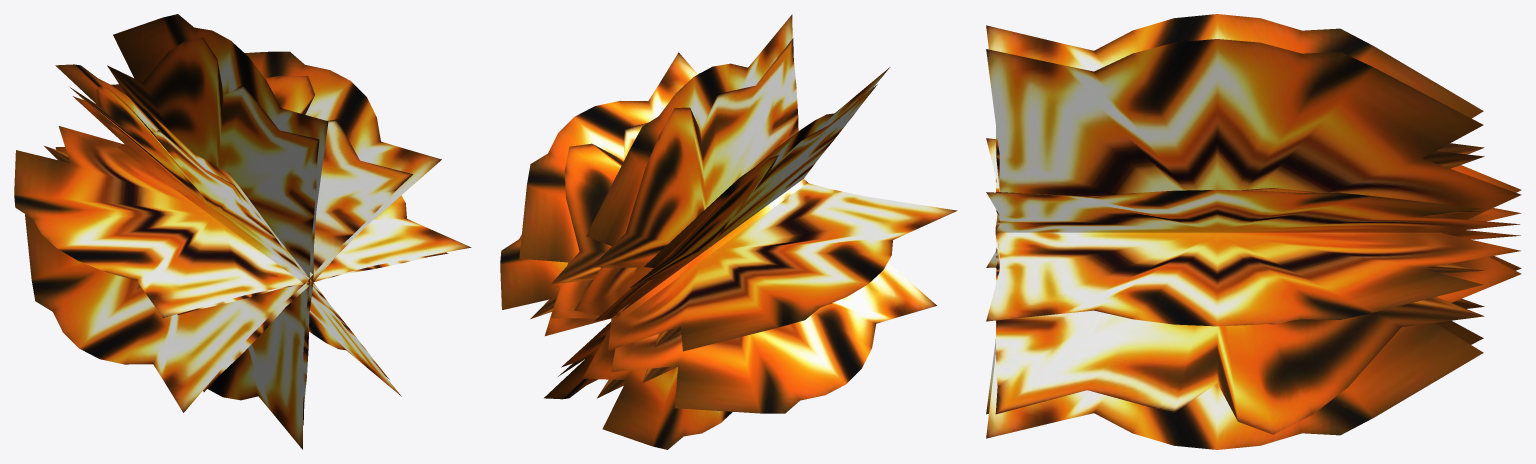
The model's file is Fire.fbx.
3 renders of one model, left to right at view 1: azimuth 30°, elevation 25°; view 2: azimuth 150°, elevation 25°; view 3: azimuth 270°, elevation 25°, orthographic. The views are drawn at different scales.
Parts seen in each view (by area): view 1: Circle.007, Circle.001, Circle.006, Circle.005, Circle.002, Circle.003, Circle, Circle.004; view 2: Circle.001, Circle.007, Circle.006, Circle.002, Circle.003, Circle.005, Circle, Circle.004; view 3: Circle.003, Circle.004, Circle, Circle.005, Circle.002, Circle.006, Circle.001, Circle.007.
Boxes of the visible parts, x1,y1,x2,y2 form: Circle.007: (25, 75, 412, 412); Circle.001: (14, 126, 448, 317); Circle.006: (107, 37, 319, 449); Circle.005: (70, 86, 401, 396); Circle.002: (203, 51, 441, 391); Circle.003: (111, 14, 328, 425); Circle: (44, 146, 471, 315); Circle.004: (55, 64, 389, 379); Circle.001: (530, 183, 957, 351); Circle.007: (551, 73, 936, 413); Circle.006: (582, 38, 798, 449); Circle.002: (519, 52, 697, 383); Circle.003: (574, 14, 792, 398); Circle.005: (544, 84, 877, 399); Circle: (500, 235, 832, 347); Circle.004: (558, 67, 889, 376); Circle.003: (986, 39, 1521, 340); Circle.004: (986, 14, 1521, 434); Circle: (986, 178, 1520, 326); Circle.005: (986, 143, 1521, 449); Circle.002: (986, 190, 1519, 268); Circle.006: (986, 127, 1521, 414); Circle.001: (986, 138, 1521, 324); Circle.007: (986, 188, 1520, 267).
Size of the model in its own units: 0.02 by 0.0199 by 0.0242.
